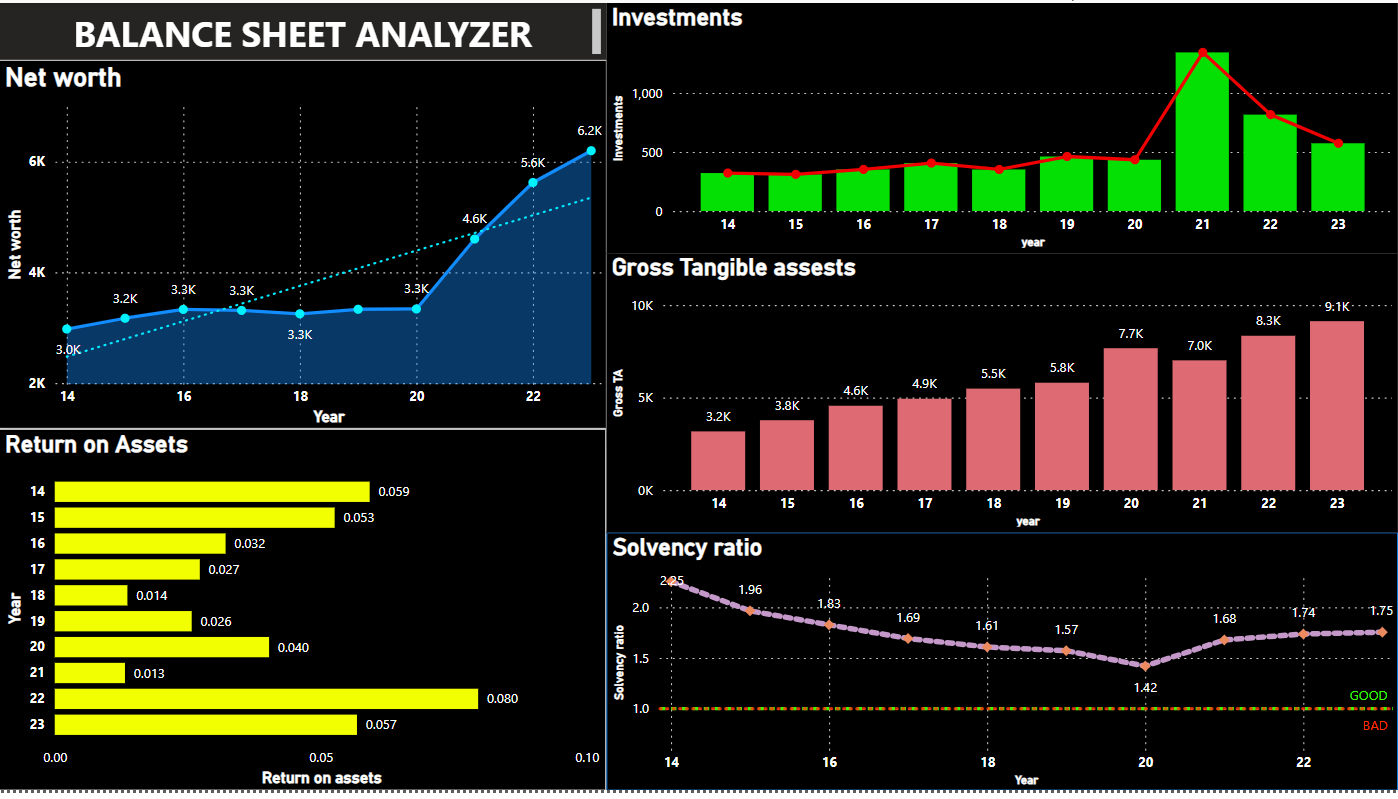

The dashboard page shown, as its layout file describes it:
{"tool":"powerbi","page":{"name":"BALANCE","canvas":[1280,720],"ordinal":2},"visuals":[{"type":"lineChart","title":" Net worth","fields":{"Category":["analyzer.Report Date.Variation.Date Hierarchy.Day"],"Y":["Sum(analyzer.Net worth(NW = TA-TL))"]},"box":[0,52.1,555.8,337.6],"z":0},{"type":"clusteredBarChart","title":"Return on Assets","fields":{"Y":["Sum(analyzer.Return on Assets(ROA = NP/TA *100))"],"Category":["analyzer.Report Date.Variation.Date Hierarchy.Day"]},"box":[0,389.3,555.6,330.7],"z":1000},{"type":"lineChart","title":" Solvency ratio","fields":{"Category":["analyzer.Report Date.Variation.Date Hierarchy.Day"],"Y":["Sum(analyzer.Solvencf ratio(S=TA/TL))"]},"box":[555.6,483.8,723.8,236.2],"z":2000},{"type":"clusteredColumnChart","title":"Gross Tangible assests","fields":{"Y":["Sum(analyzer. Gross Tangible assests(GTA = NB+CWIP))"],"Category":["analyzer.Report Date.Variation.Date Hierarchy.Day"]},"box":[555.6,228.7,723.8,255.1],"z":3000},{"type":"lineClusteredColumnComboChart","title":"Investments","fields":{"Category":["analyzer.Report Date.Variation.Date Hierarchy.Day"],"Y":["Sum(analyzer.Investments(IM))"],"Y2":["Sum(analyzer.Investments(IM))"]},"box":[556,0,724,229],"z":4000},{"type":"textbox","box":[0,0,555.8,52.1],"z":4001}]}

Visuals, with their boxes in screenshot pixels (x1, y1, x2, y2), scaled from the page's 1280x720 canvas onto the 1398x799 screenshot:
" Net worth" lineChart: (x1=0, y1=58, x2=607, y2=432)
"Return on Assets" clusteredBarChart: (x1=0, y1=432, x2=607, y2=798)
" Solvency ratio" lineChart: (x1=607, y1=537, x2=1397, y2=798)
"Gross Tangible assests" clusteredColumnChart: (x1=607, y1=254, x2=1397, y2=537)
"Investments" lineClusteredColumnComboChart: (x1=607, y1=0, x2=1397, y2=254)
textbox: (x1=0, y1=0, x2=607, y2=58)
